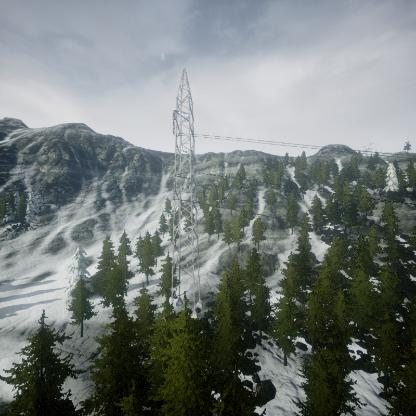tower: (167, 67, 208, 318)
